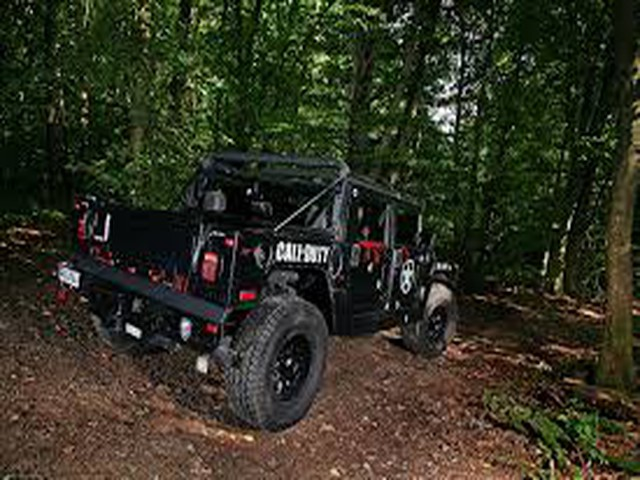Vehicle: (55, 150, 461, 434)
